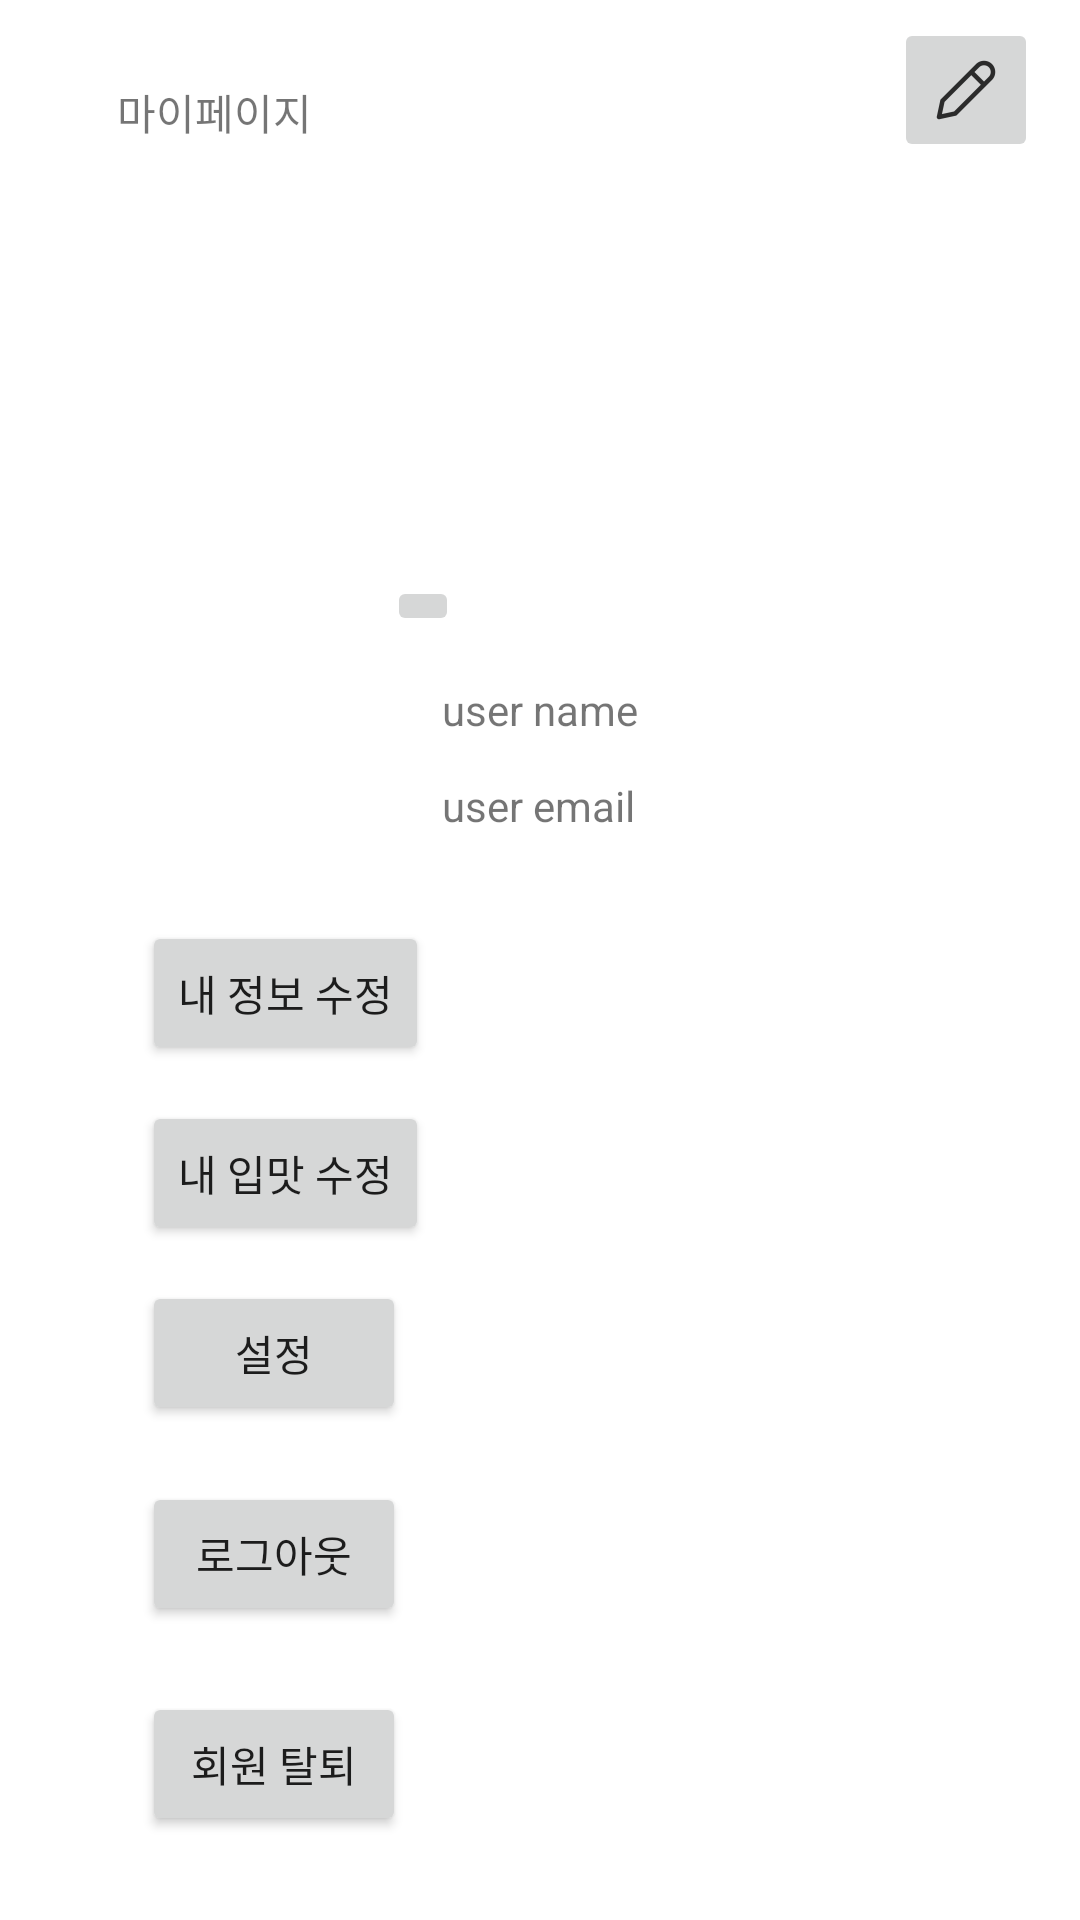

Where icons sit on this 1080px x 1920px app screen, as region(x1, y1, x2, y2):
edit: region(906, 36, 1026, 144)
